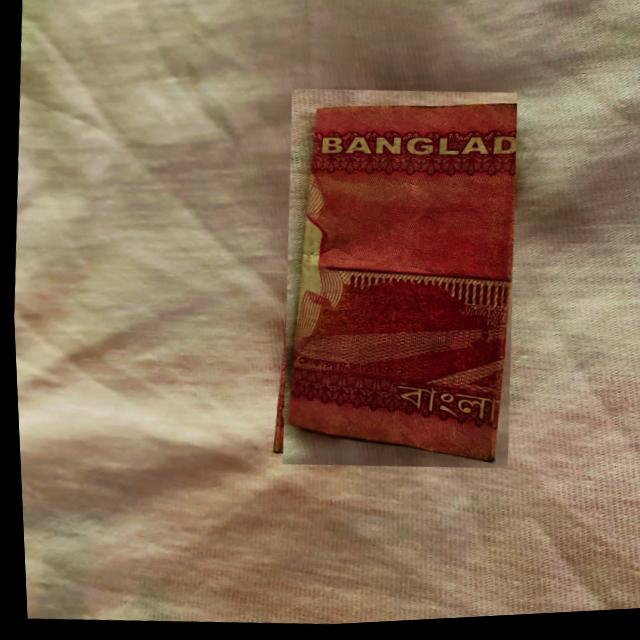Taka: (264, 82, 529, 482)
